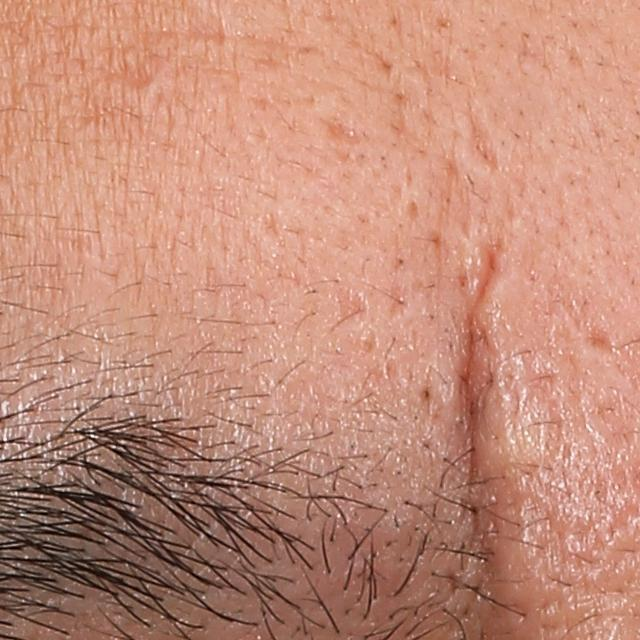atrophic_scar: (319, 113, 369, 163), (463, 109, 499, 174), (332, 286, 374, 330), (581, 327, 617, 353)
